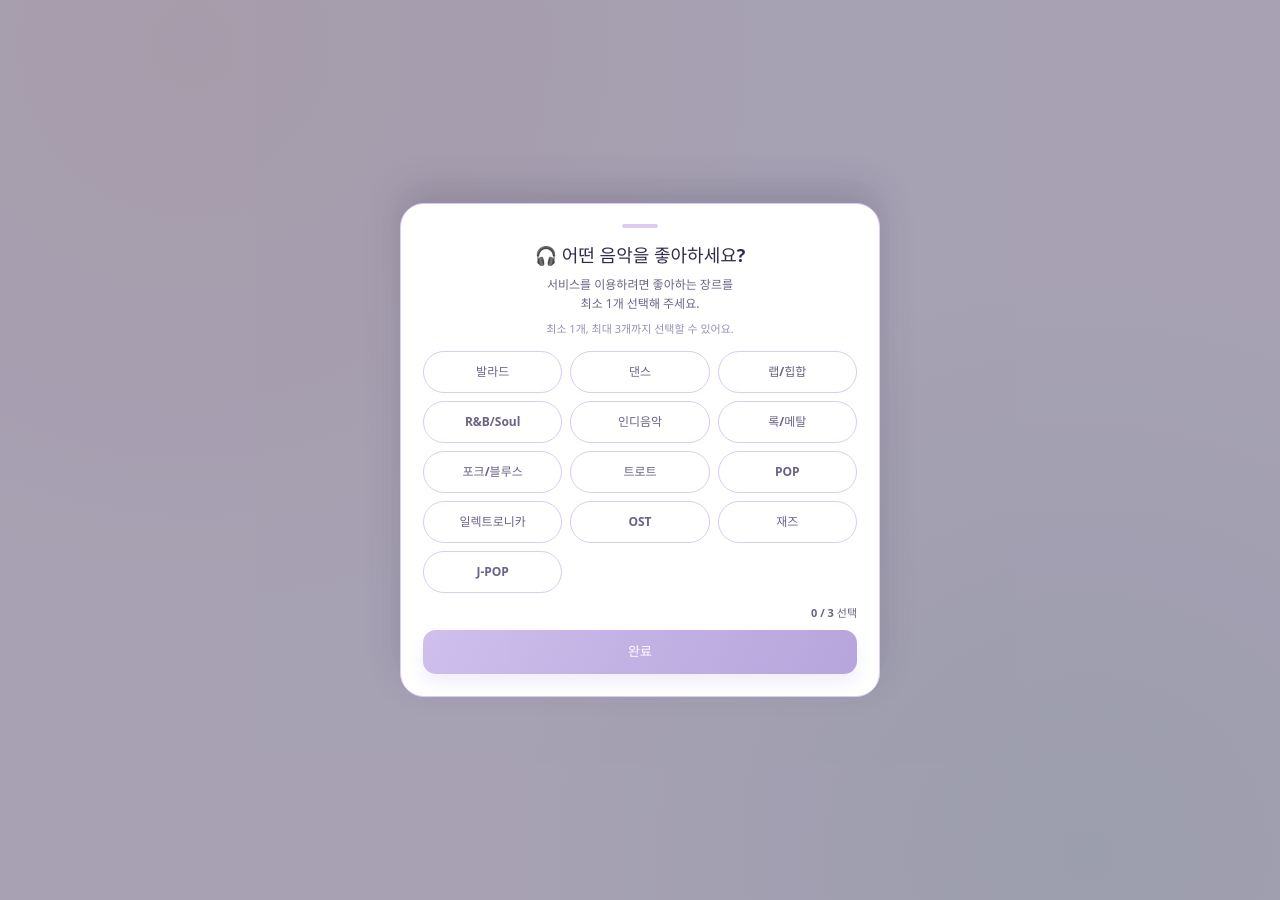
Scenario: GenreOnboardingSheet › toggles chips, caps selection at three, and allows selected chips to be removed
What coordinates should you click on to do the following:
click the button "발라드"
I would click on:
 (493, 372)
Its box is top-left (423, 351), bottom-right (562, 393).
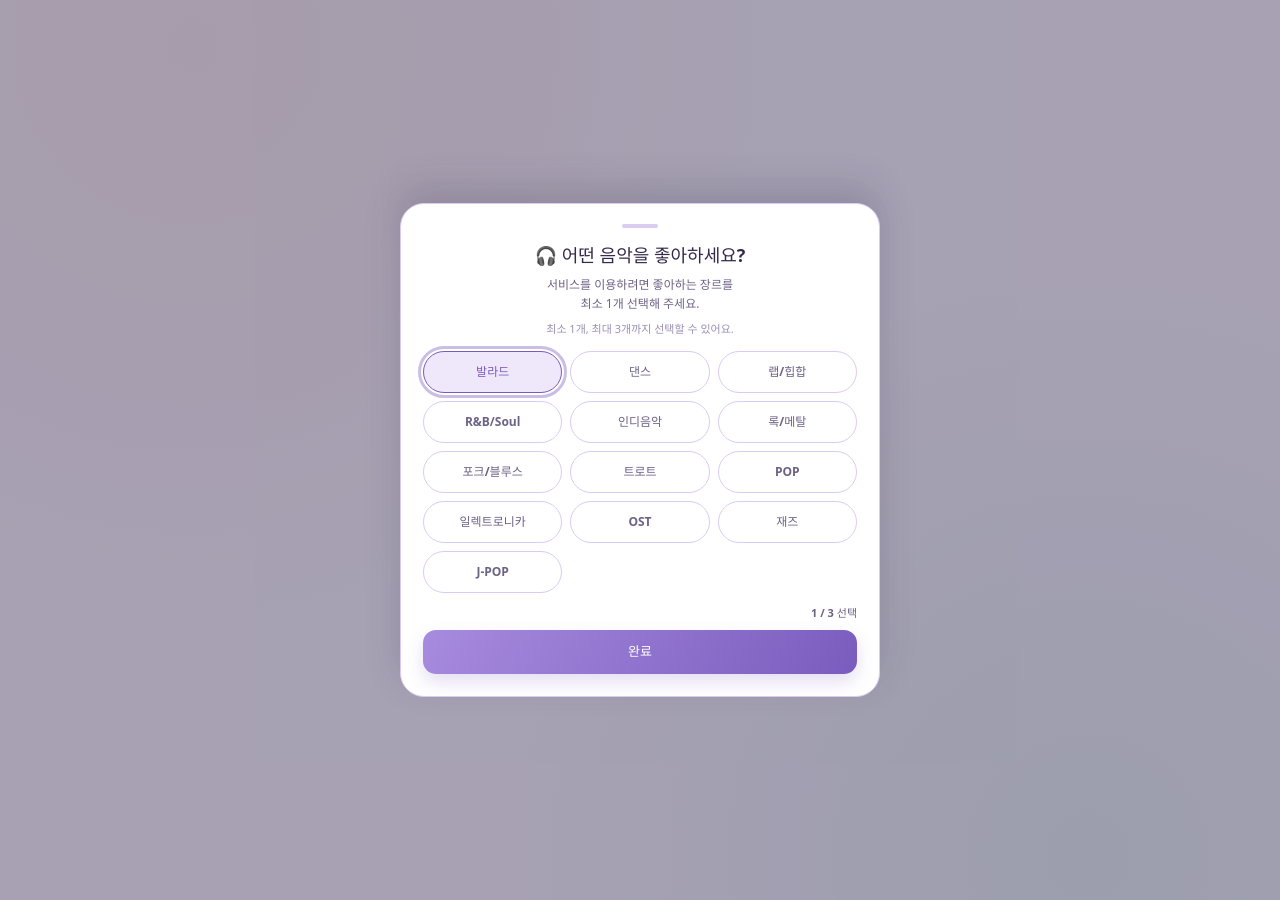
What coordinates should you click on to do the following:
click the button "댄스"
I would click on:
 (640, 372)
Its box is top-left (570, 351), bottom-right (710, 393).
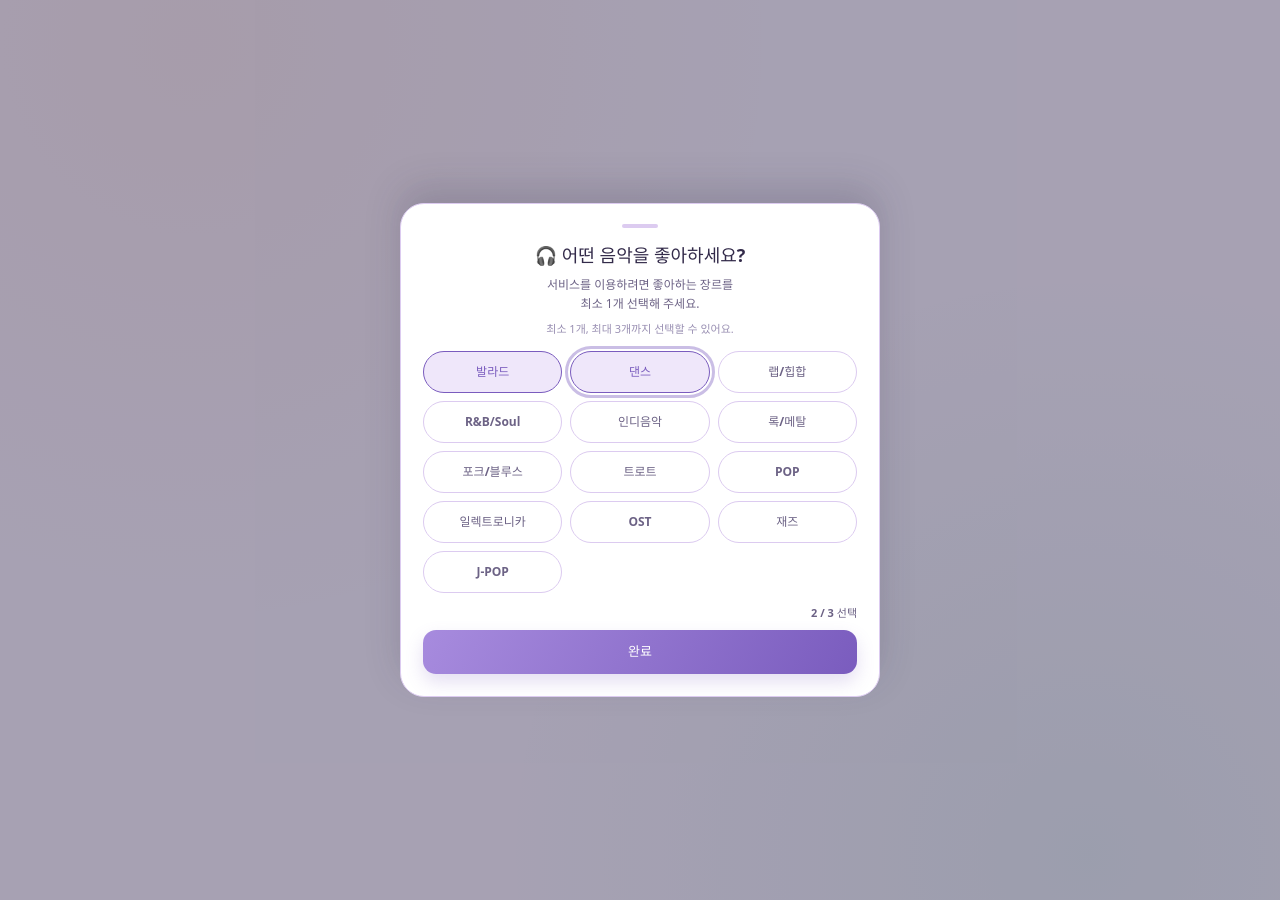
What coordinates should you click on to do the following:
click the button "랩/힙합"
I would click on:
 (787, 372)
Its box is top-left (718, 351), bottom-right (857, 393).
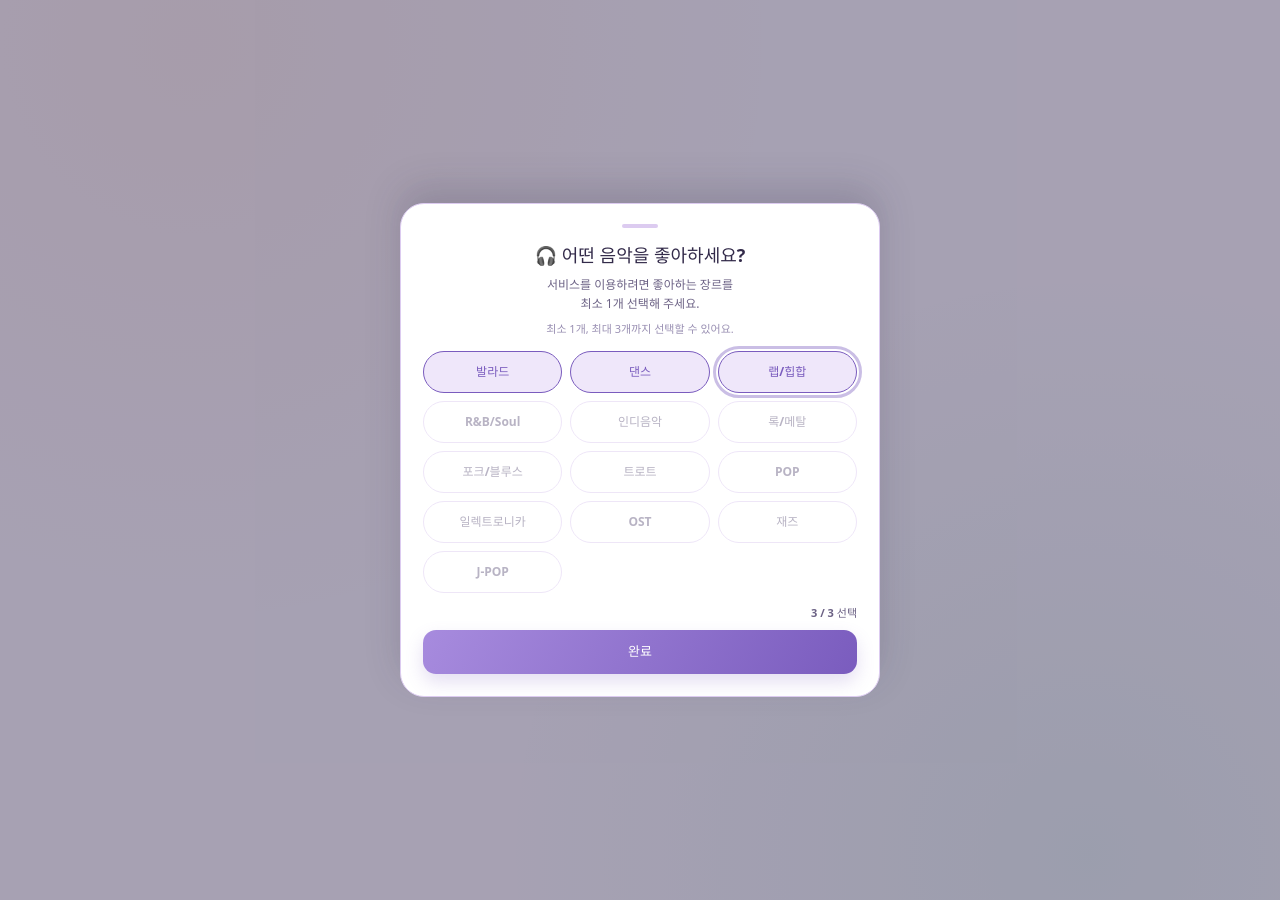
Result: the text "3 / 3 선택" is shown at top-left (811, 605), bottom-right (857, 620)
Result: the button "재즈" is disabled at top-left (718, 501), bottom-right (857, 543)
What coordinates should you click on to do the following:
click the button "댄스"
I would click on:
 (640, 372)
Its box is top-left (570, 351), bottom-right (710, 393).
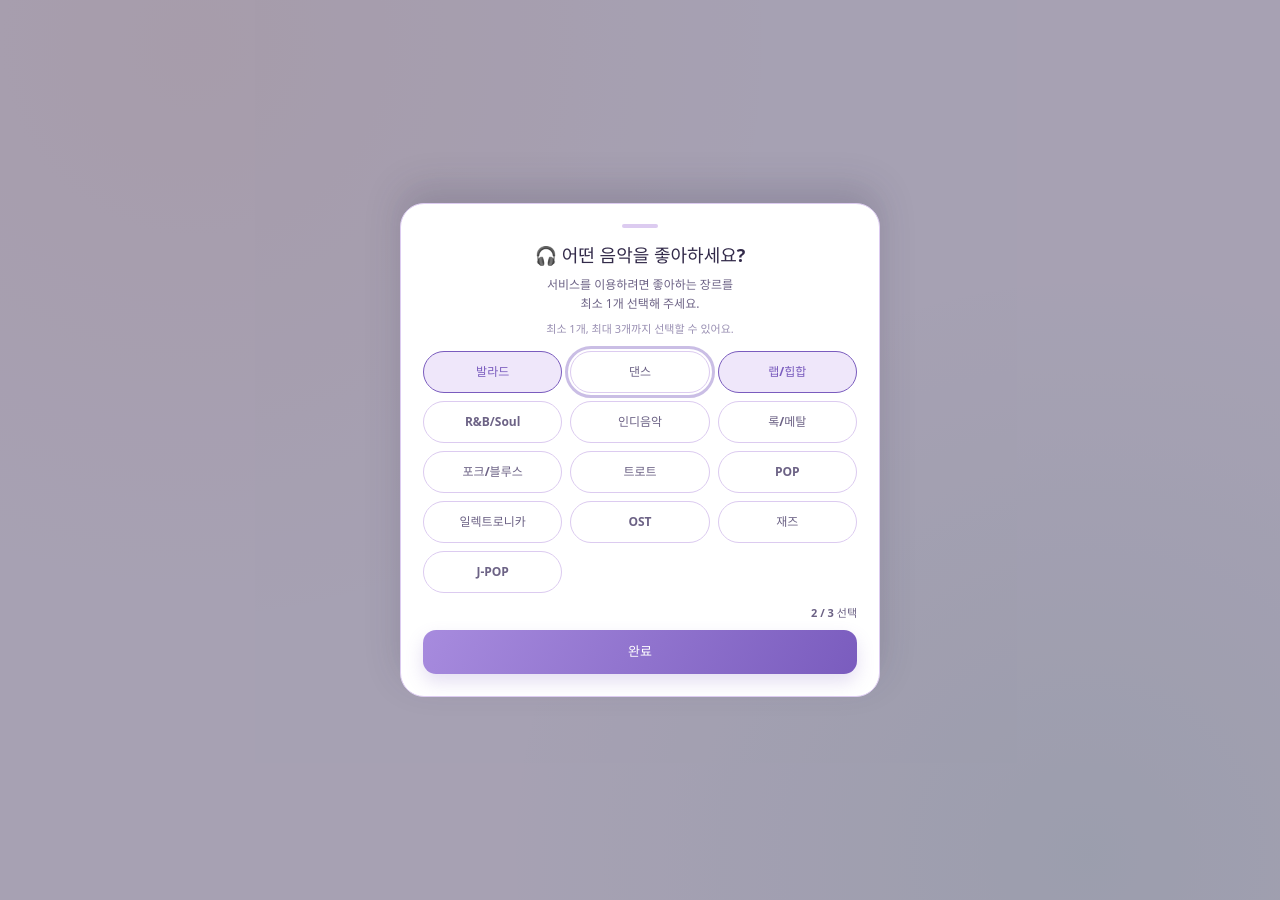
Result: the text "2 / 3 선택" is shown at top-left (811, 605), bottom-right (857, 620)
Result: the button "재즈" is enabled at top-left (718, 501), bottom-right (857, 543)
